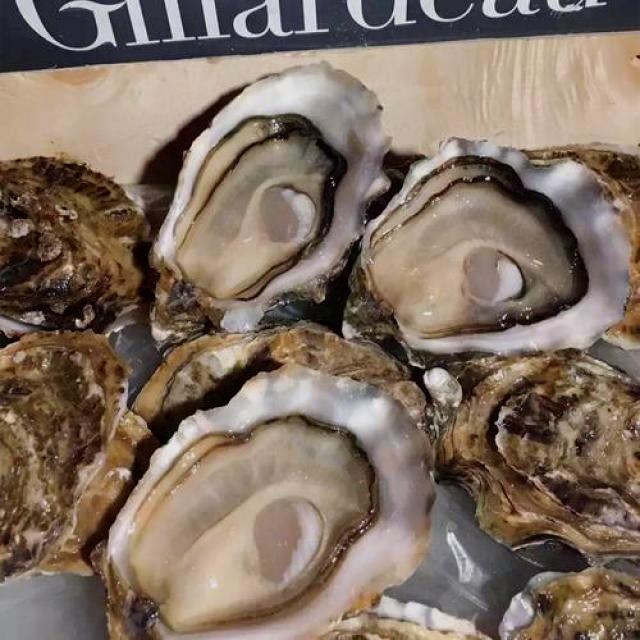Oyster-Closed: (438, 350, 639, 557), (123, 316, 431, 444), (0, 331, 126, 578), (0, 156, 154, 337), (32, 405, 162, 579), (499, 566, 639, 639)
Oyster-Open: (108, 366, 436, 639), (154, 64, 389, 331), (358, 139, 631, 354)
